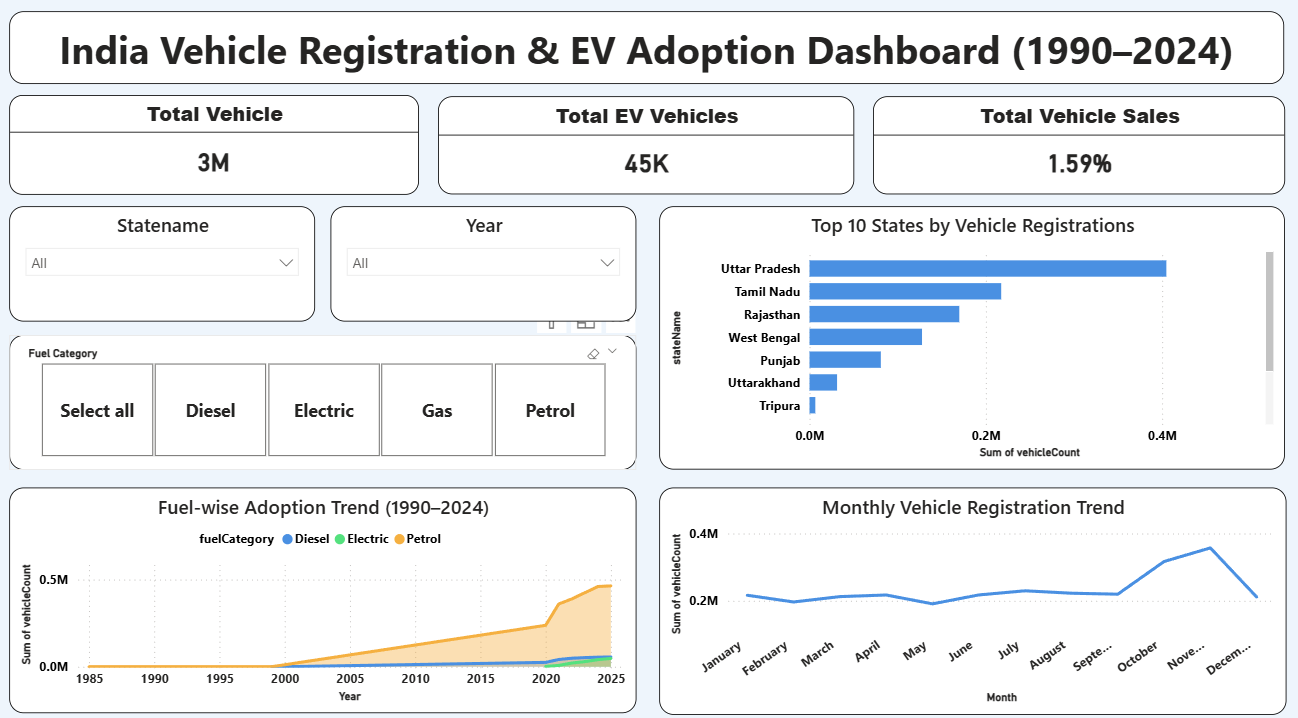

The page's visual inventory and layout, read from the dashboard file:
{"tool":"powerbi","page":{"name":"overview","canvas":[1280,720],"ordinal":0},"visuals":[{"type":"card","title":"Total Vehicle ","fields":{"Values":["vehicle_agg_cleaned.Total Vehicles agg"]},"box":[16.5,102.9,400.7,97.4],"z":0},{"type":"card","title":"Total EV Vehicles","fields":{"Values":["vehicle_agg_cleaned.Total EV Vehicles agg"]},"box":[435,104.3,407.5,96.1],"z":1000},{"type":"card","title":"Total Vehicle Sales","fields":{"Values":["vehicle_agg_cleaned.EV Share % agg"]},"box":[860.4,104.3,403.4,96.1],"z":2000},{"type":"lineChart","title":"Monthly Vehicle Registration Trend ","fields":{"Category":["vehicle_agg_cleaned.registrationMonth.Variation.Date Hierarchy.Year","vehicle_agg_cleaned.registrationMonth.Variation.Date Hierarchy.Quarter","vehicle_agg_cleaned.registrationMonth.Variation.Date Hierarchy.Month","vehicle_agg_cleaned.registrationMonth.Variation.Date Hierarchy.Day"],"Y":["Sum(vehicle_agg_cleaned.vehicleCount)"]},"box":[651.8,487.1,613.4,222.3],"z":3000},{"type":"areaChart","title":"Fuel-wise Adoption Trend (1990–2024)","fields":{"Category":["vehicle_agg_cleaned.registrationMonth.Variation.Date Hierarchy.Year","vehicle_agg_cleaned.registrationMonth.Variation.Date Hierarchy.Quarter","vehicle_agg_cleaned.registrationMonth.Variation.Date Hierarchy.Month","vehicle_agg_cleaned.registrationMonth.Variation.Date Hierarchy.Day"],"Y":["Sum(vehicle_agg_cleaned.vehicleCount)"],"Series":["vehicle_agg_cleaned.fuelCategory"]},"box":[16.5,487.1,613.4,220.9],"z":4000},{"type":"clusteredBarChart","title":"Top 10 States by Vehicle Registrations","fields":{"Category":["vehicle_agg_cleaned.stateName"],"Y":["Sum(vehicle_agg_cleaned.vehicleCount)"]},"box":[651.8,211.3,612,258],"z":5000},{"type":"slicer","title":"Statename","fields":{"Values":["vehicle_agg_cleaned.stateName"]},"box":[16.5,211.3,299.1,112.5],"z":6000},{"type":"slicer","fields":{"Values":["vehicle_agg_cleaned.fuelCategory"]},"box":[16.5,337.6,613.4,131.7],"z":7000},{"type":"slicer","title":"Year","fields":{"Values":["vehicle_agg_cleaned.registrationMonth.Variation.Date Hierarchy.Year"]},"box":[330.7,211.3,299.1,112.5],"z":8000},{"type":"textbox","box":[16.5,20.6,1247.3,71.4],"z":9000}]}

Visuals, with their boxes in screenshot pixels (x1, y1, x2, y2), scaled from the page's 1280x720 canvas onto the 1298x718 screenshot:
"Total Vehicle " card: pyautogui.locateOnScreen(17, 103, 423, 200)
"Total EV Vehicles" card: pyautogui.locateOnScreen(441, 104, 854, 200)
"Total Vehicle Sales" card: pyautogui.locateOnScreen(872, 104, 1282, 200)
"Monthly Vehicle Registration Trend " lineChart: pyautogui.locateOnScreen(661, 486, 1283, 707)
"Fuel-wise Adoption Trend (1990–2024)" areaChart: pyautogui.locateOnScreen(17, 486, 639, 706)
"Top 10 States by Vehicle Registrations" clusteredBarChart: pyautogui.locateOnScreen(661, 211, 1282, 468)
"Statename" slicer: pyautogui.locateOnScreen(17, 211, 320, 323)
slicer - vehicle_agg_cleaned.fuelCategory: pyautogui.locateOnScreen(17, 337, 639, 468)
"Year" slicer: pyautogui.locateOnScreen(335, 211, 639, 323)
textbox: pyautogui.locateOnScreen(17, 21, 1282, 92)
